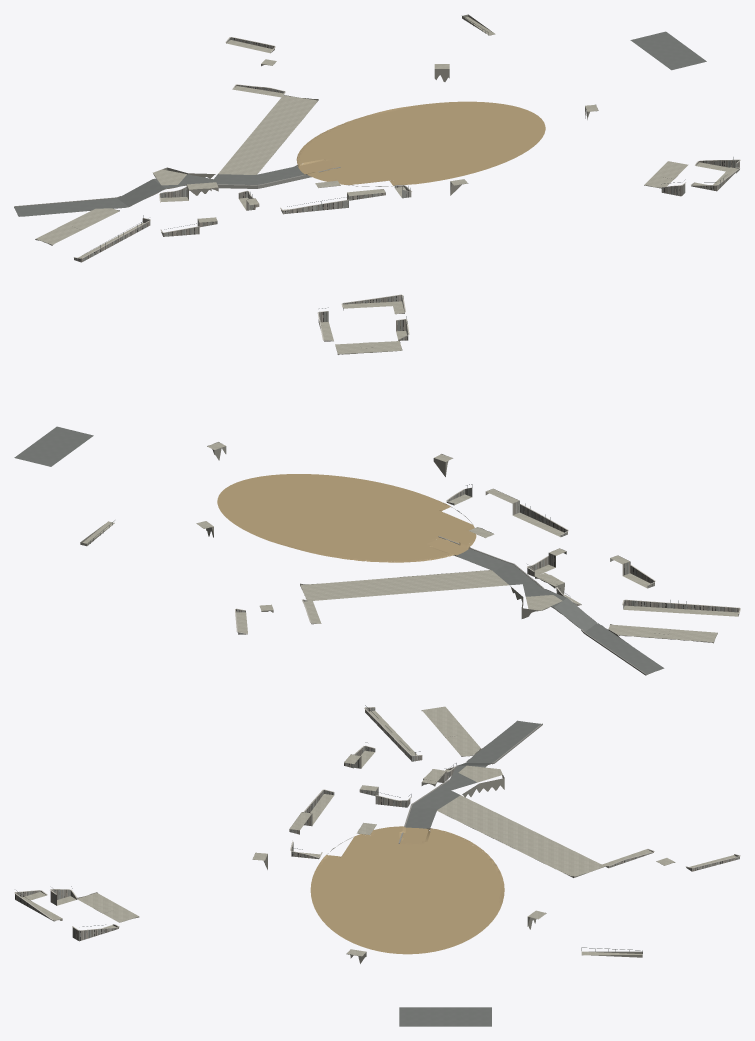
The picture shows the model from 3 angles, top to bottom: view 1: azimuth 30°, elevation 25°; view 2: azimuth 150°, elevation 25°; view 3: azimuth 270°, elevation 25°; orthographic projection. The views are drawn at different scales.
Visible parts, largest first — view 1: field-surface, gangseo-paving (×2), gangseo-asphalt, gangseo-stonebank, richardson-front-paving-r3__edgeClosure, site-2, entry-edge__continuous; view 2: field-surface, gangseo-paving (×2), gangseo-asphalt, gangseo-stonebank, richardson-front-paving-r3__edgeClosure, site-2; view 3: field-surface, gangseo-paving (×2), gangseo-asphalt, gangseo-stonebank, richardson-front-paving-r3__edgeClosure, site-2.
Boxes of the visible parts, x1=… form: field-surface: x1=296, y1=101, x2=545, y2=185; gangseo-paving (×2): x1=36, y1=17, x2=737, y2=258; gangseo-asphalt: x1=14, y1=31, x2=706, y2=216; gangseo-stonebank: x1=74, y1=37, x2=739, y2=262; richardson-front-paving-r3__edgeClosure: x1=14, y1=14, x2=677, y2=245; site-2: x1=73, y1=37, x2=740, y2=258; entry-edge__continuous: x1=14, y1=167, x2=340, y2=206; field-surface: x1=217, y1=474, x2=476, y2=562; gangseo-paving (×2): x1=83, y1=301, x2=738, y2=642; gangseo-asphalt: x1=14, y1=426, x2=663, y2=674; gangseo-stonebank: x1=236, y1=295, x2=739, y2=634; richardson-front-paving-r3__edgeClosure: x1=80, y1=340, x2=717, y2=675; site-2: x1=235, y1=294, x2=740, y2=633; field-surface: x1=310, y1=826, x2=504, y2=954; gangseo-paving (×2): x1=22, y1=706, x2=736, y2=956; gangseo-asphalt: x1=399, y1=720, x2=540, y2=1026; gangseo-stonebank: x1=15, y1=707, x2=739, y2=941; richardson-front-paving-r3__edgeClosure: x1=77, y1=710, x2=675, y2=963; site-2: x1=14, y1=707, x2=740, y2=930.
Size of the model in its own units: 201 by 24.48 by 172.
Materials: 12 (4 with a texture image).
